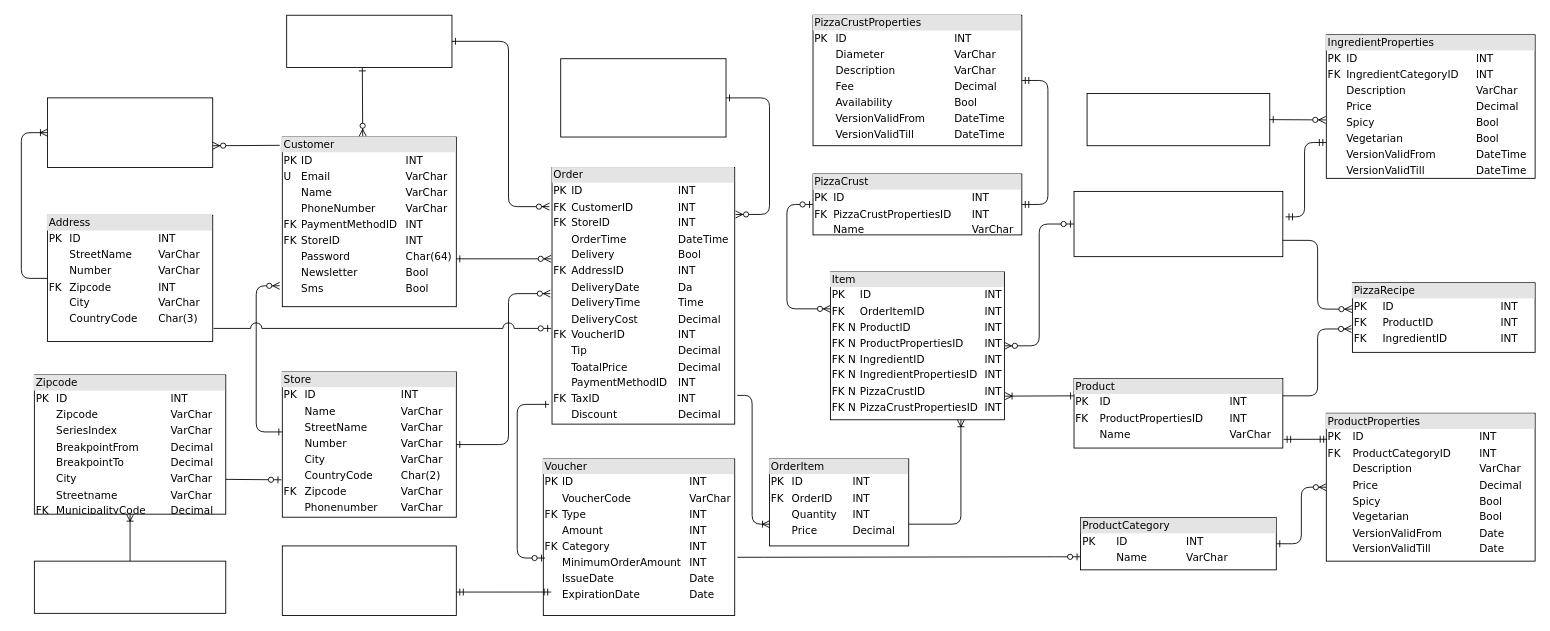
Some shapes in this 1550 by 631 pixel diagram are drawn without their labels. Here are the shapes that lost their labels. From the top down, the box of each, then its label:
(286, 14, 452, 67): PaymentMethod PK ID INT Name VarChar
(560, 58, 726, 137): Tax PK ID INT Rate Decimal ValidFrom Date VaildTill Date
(47, 97, 213, 167): AddressCustomer PK ID INT FK AddressID INT FK CustomerID INT
(1086, 93, 1270, 146): IngredientCategory PK ID INT Name VarChar
(1073, 191, 1283, 257): Ingredient PK ID INT FK IngredientPropertiesID INT Name VarChar
(33, 560, 226, 613): Municipality PK MunicipalityCode Decimal Name VarChar
(281, 545, 456, 616): VoucherType PK ID INT Name VarChar Description VarChar
